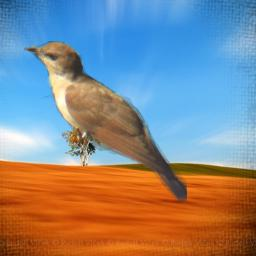Cuckoo: (24, 41, 187, 202)
